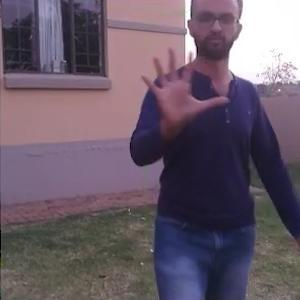follow_hand: (136, 41, 230, 130)
